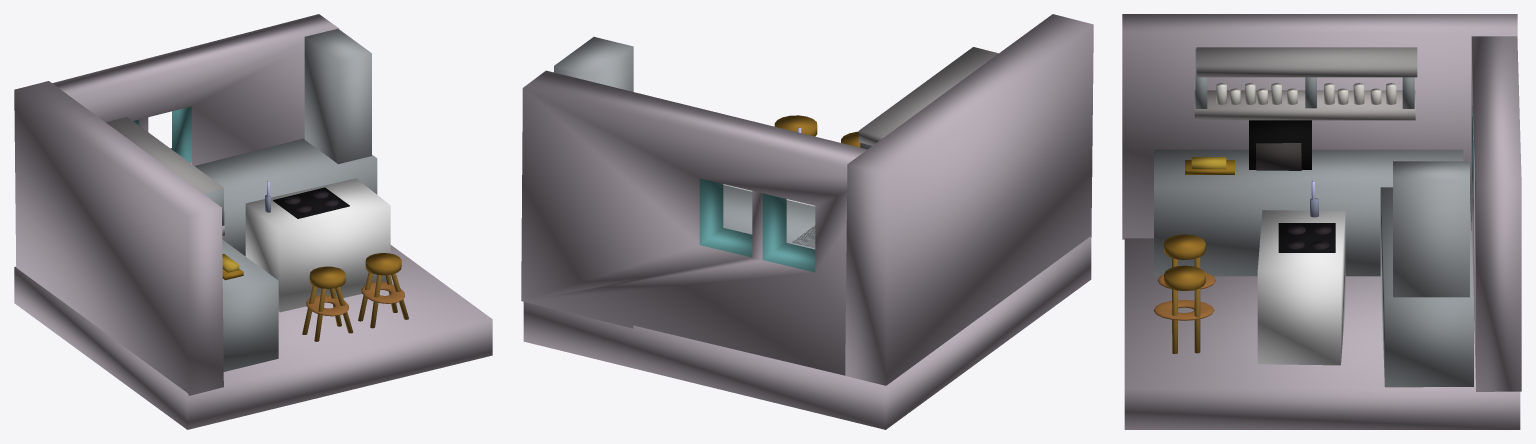
The model's file is ikea.obj.
3 views of the same model, side by side, from view 1: azimuth 30°, elevation 25°; view 2: azimuth 150°, elevation 25°; view 3: azimuth 270°, elevation 25° (orthographic). The views are drawn at different scales.
Parts seen in each view (by area): view 1: cube4, cube103, cube11, cube109, cube106, cylinder13, cylinder28, torus30, cube98, cylinder91; view 2: cube4, cube106, cube109, cube103, cylinder28; view 3: cube4, cube103, cube11, cube106, cube109, cylinder117, cube145, cylinder28, cube147, cube110, cube98, torus30 (+4 smaller).
Part boxes in pixels (x1=…): cube4: x1=14, y1=14, x2=492, y2=429; cube103: x1=195, y1=138, x2=377, y2=371; cube11: x1=245, y1=178, x2=390, y2=312; cube109: x1=304, y1=28, x2=371, y2=163; cube106: x1=106, y1=117, x2=224, y2=235; cylinder13: x1=302, y1=272, x2=408, y2=341; cylinder28: x1=309, y1=253, x2=401, y2=288; torus30: x1=306, y1=282, x2=404, y2=316; cube98: x1=273, y1=187, x2=349, y2=218; cylinder91: x1=284, y1=190, x2=338, y2=212; cube4: x1=521, y1=14, x2=1093, y2=429; cube106: x1=858, y1=47, x2=998, y2=145; cube109: x1=554, y1=37, x2=633, y2=91; cube103: x1=723, y1=185, x2=815, y2=249; cylinder28: x1=774, y1=115, x2=860, y2=147; cube4: x1=1122, y1=14, x2=1521, y2=429; cube103: x1=1154, y1=149, x2=1473, y2=387; cube11: x1=1257, y1=210, x2=1345, y2=365; cube106: x1=1194, y1=47, x2=1417, y2=120; cube109: x1=1393, y1=161, x2=1469, y2=297; cylinder117: x1=1216, y1=83, x2=1396, y2=104; cube145: x1=1249, y1=120, x2=1311, y2=169; cylinder28: x1=1164, y1=234, x2=1205, y2=290; cube147: x1=1256, y1=143, x2=1301, y2=170; cube110: x1=1195, y1=48, x2=1414, y2=108; cube98: x1=1278, y1=223, x2=1335, y2=252; torus30: x1=1153, y1=272, x2=1215, y2=320.
Bounding box in the file's own units: 1535 × 1033 × 1508.
